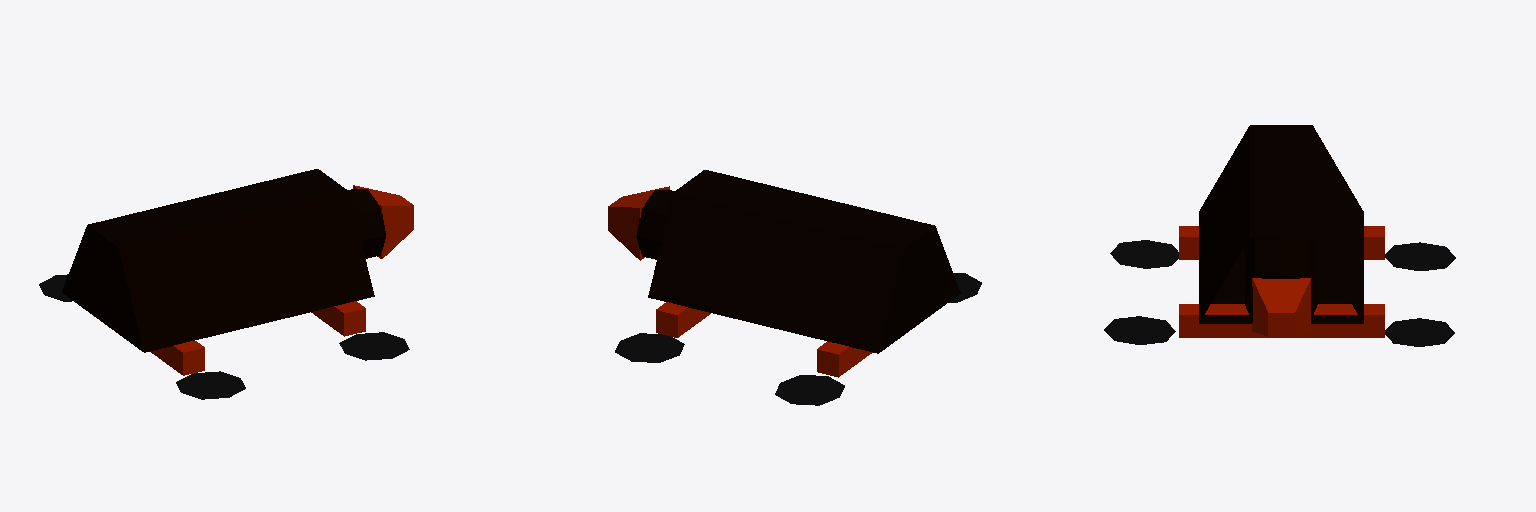
The model's file is heavybatteringram3d.obj.
3 views of the same model, side by side, from view 1: azimuth 30°, elevation 25°; view 2: azimuth 150°, elevation 25°; view 3: azimuth 270°, elevation 25° (orthographic).
Visible parts, largest first — view 1: Cube, Cube.003, Plane.003, Plane.002, Cube.002, Cube.001; view 2: Cube, Cube.003, Plane.001, Plane, Cube.002, Cube.001, Plane.002; view 3: Cube, Cube.001, Cube.003, Plane.001, Plane.003, Plane, Plane.002, Cube.002.
Boxes of the visible parts, x1=… form: Cube: x1=62, y1=169, x2=385, y2=352; Cube.003: x1=353, y1=185, x2=413, y2=258; Plane.003: x1=339, y1=332, x2=409, y2=360; Plane.002: x1=176, y1=371, x2=245, y2=399; Cube.002: x1=150, y1=341, x2=204, y2=375; Cube.001: x1=311, y1=301, x2=365, y2=336; Cube: x1=636, y1=170, x2=960, y2=353; Cube.003: x1=608, y1=186, x2=669, y2=260; Plane.001: x1=775, y1=375, x2=844, y2=405; Plane: x1=615, y1=333, x2=684, y2=362; Cube.002: x1=817, y1=341, x2=872, y2=377; Cube.001: x1=656, y1=302, x2=710, y2=337; Plane.002: x1=949, y1=273, x2=981, y2=302; Cube: x1=1199, y1=125, x2=1363, y2=323; Cube.001: x1=1179, y1=304, x2=1384, y2=337; Cube.003: x1=1252, y1=278, x2=1310, y2=336; Plane.001: x1=1385, y1=242, x2=1455, y2=270; Plane.003: x1=1104, y1=316, x2=1175, y2=344; Plane: x1=1385, y1=318, x2=1454, y2=346; Plane.002: x1=1110, y1=240, x2=1178, y2=268; Cube.002: x1=1179, y1=226, x2=1384, y2=259.
Bounding box in the file's own units: 10.17 × 3.6 × 10.19.